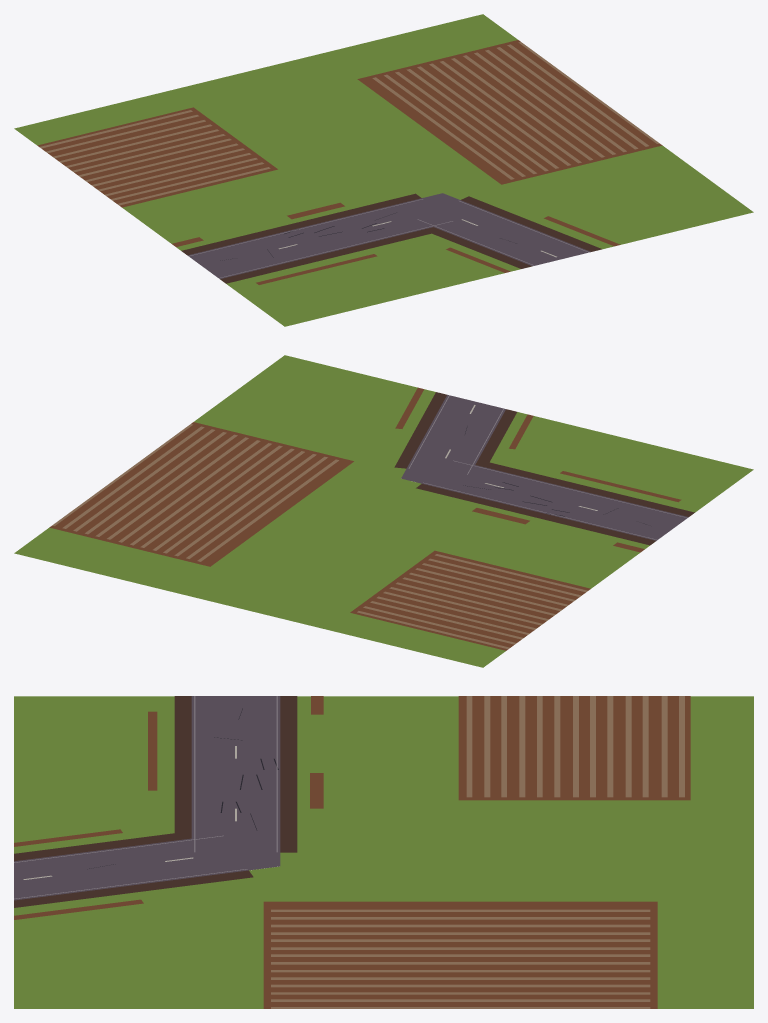
Rendered from crossing-9-0.glb.
The picture shows the model from 3 angles, top to bottom: view 1: azimuth 30°, elevation 25°; view 2: azimuth 150°, elevation 25°; view 3: azimuth 270°, elevation 25°; orthographic projection. The views are drawn at different scales.
Visible parts, largest first — view 1: crossing-9-0; view 2: crossing-9-0; view 3: crossing-9-0.
Boxes of the visible parts, x1=… form: crossing-9-0: x1=14, y1=14, x2=753, y2=326; crossing-9-0: x1=14, y1=355, x2=753, y2=667; crossing-9-0: x1=14, y1=696, x2=753, y2=1008.
Size of the model in its own units: 100 by 0.0145 by 100.
